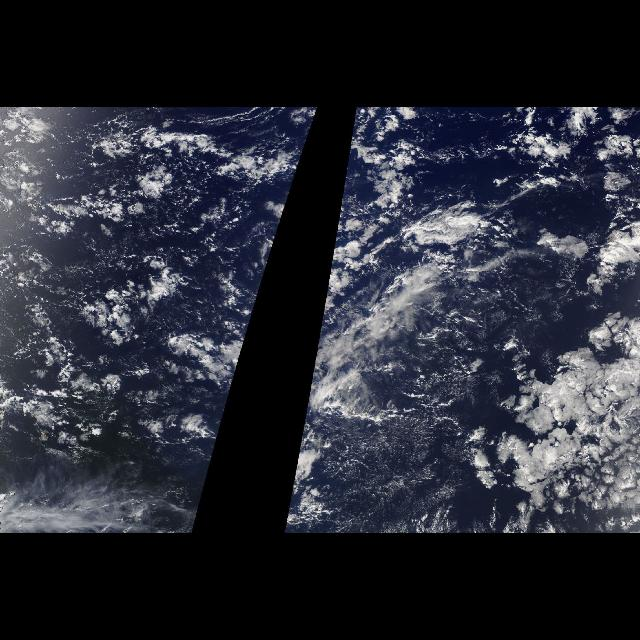Flower: (502, 136, 638, 362)
Sugar: (296, 364, 488, 534)
